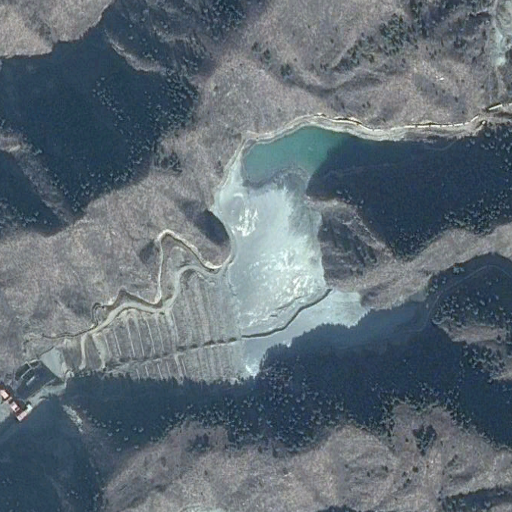tp: (41, 119, 420, 386)
